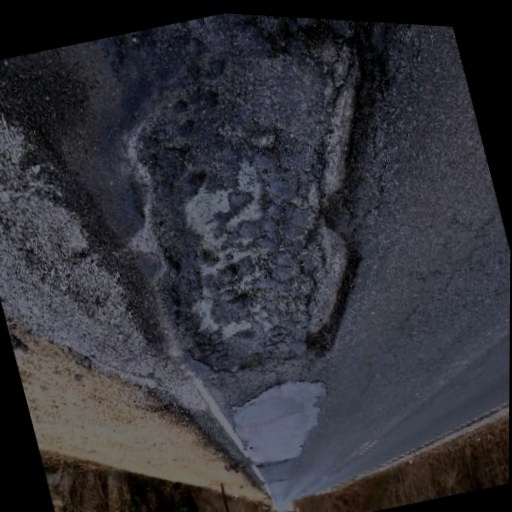pothole: (94, 6, 454, 409)
